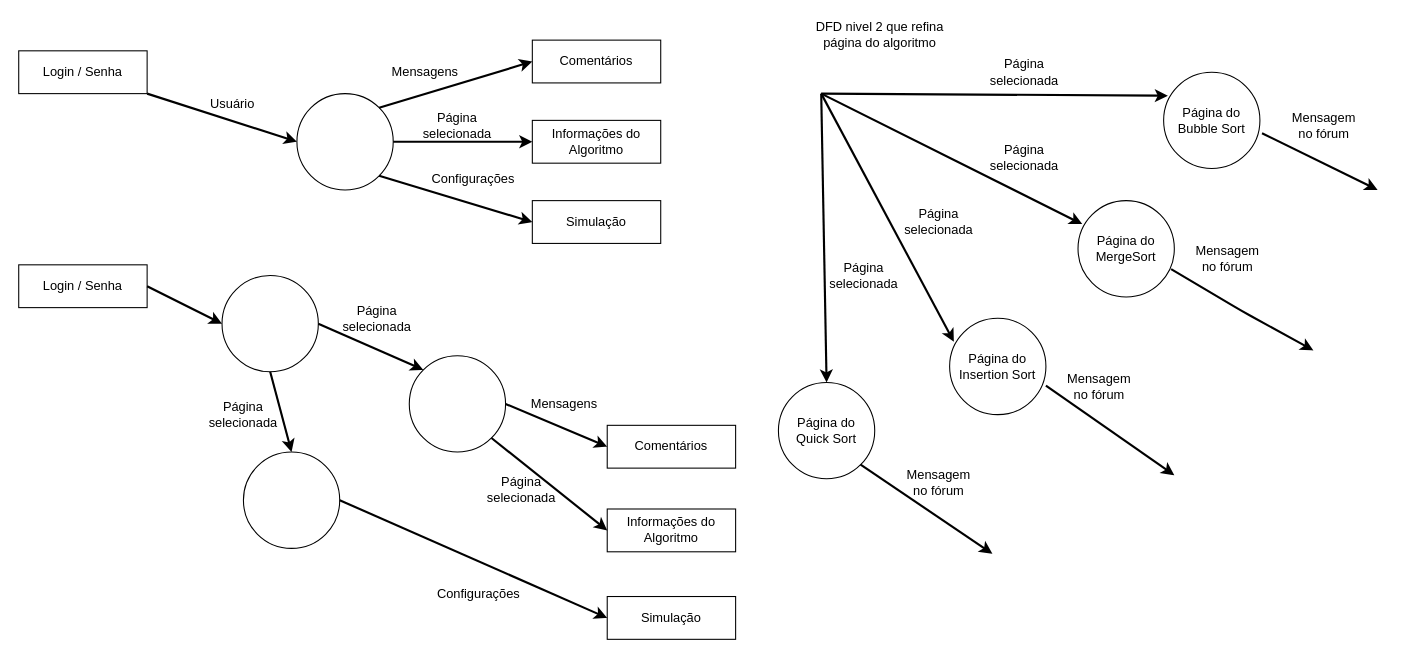
The diagram is 1406 pixels wide and 658 high, and some of its shapes have lost their labels. The box of each missing label's shape, as (x1, y1, x2, y2) in pixels:
Portal de Algoritmos: (296, 93, 393, 190)
Página de Simulação: (242, 451, 340, 548)
Página do Algoritmo: (408, 355, 506, 452)
Página Inicial: (221, 274, 318, 372)
